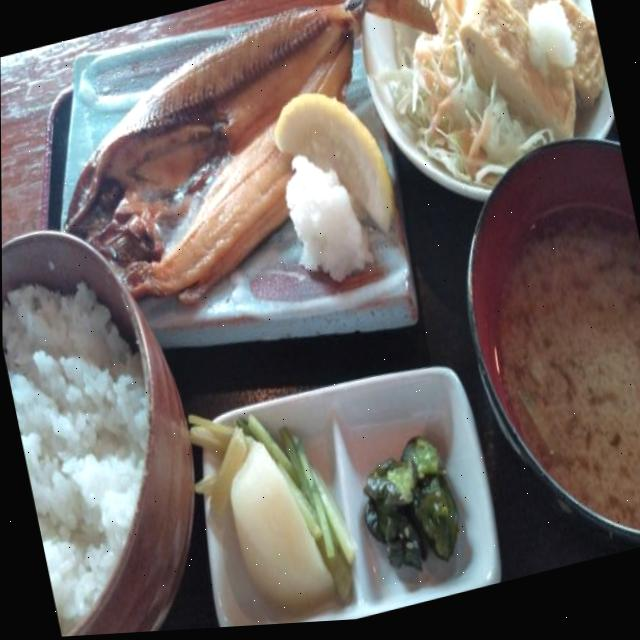米饭主食: (1, 244, 178, 637)
